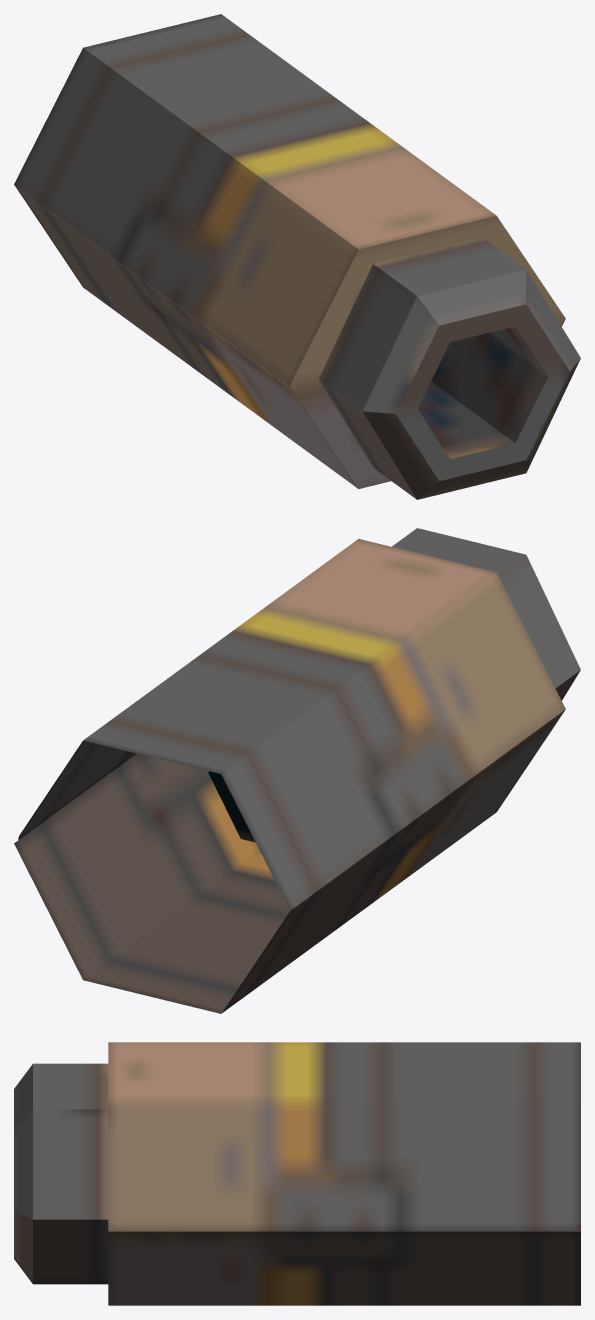
File: tankbarrel.fbx
3 views of the same model, one above another, from view 1: azimuth 30°, elevation 25°; view 2: azimuth 150°, elevation 25°; view 3: azimuth 270°, elevation 25° (orthographic). The views are drawn at different scales.
Visible parts, largest first — view 1: cylinder; view 2: cylinder; view 3: cylinder.
Part boxes in pixels (bbox=[...]): cylinder: bbox=[14, 14, 580, 499]; cylinder: bbox=[14, 528, 580, 1013]; cylinder: bbox=[14, 1042, 580, 1305].
Bounding box in the file's own units: 90.47 × 75 × 188.
Materials: 1 (1 with a texture image).
